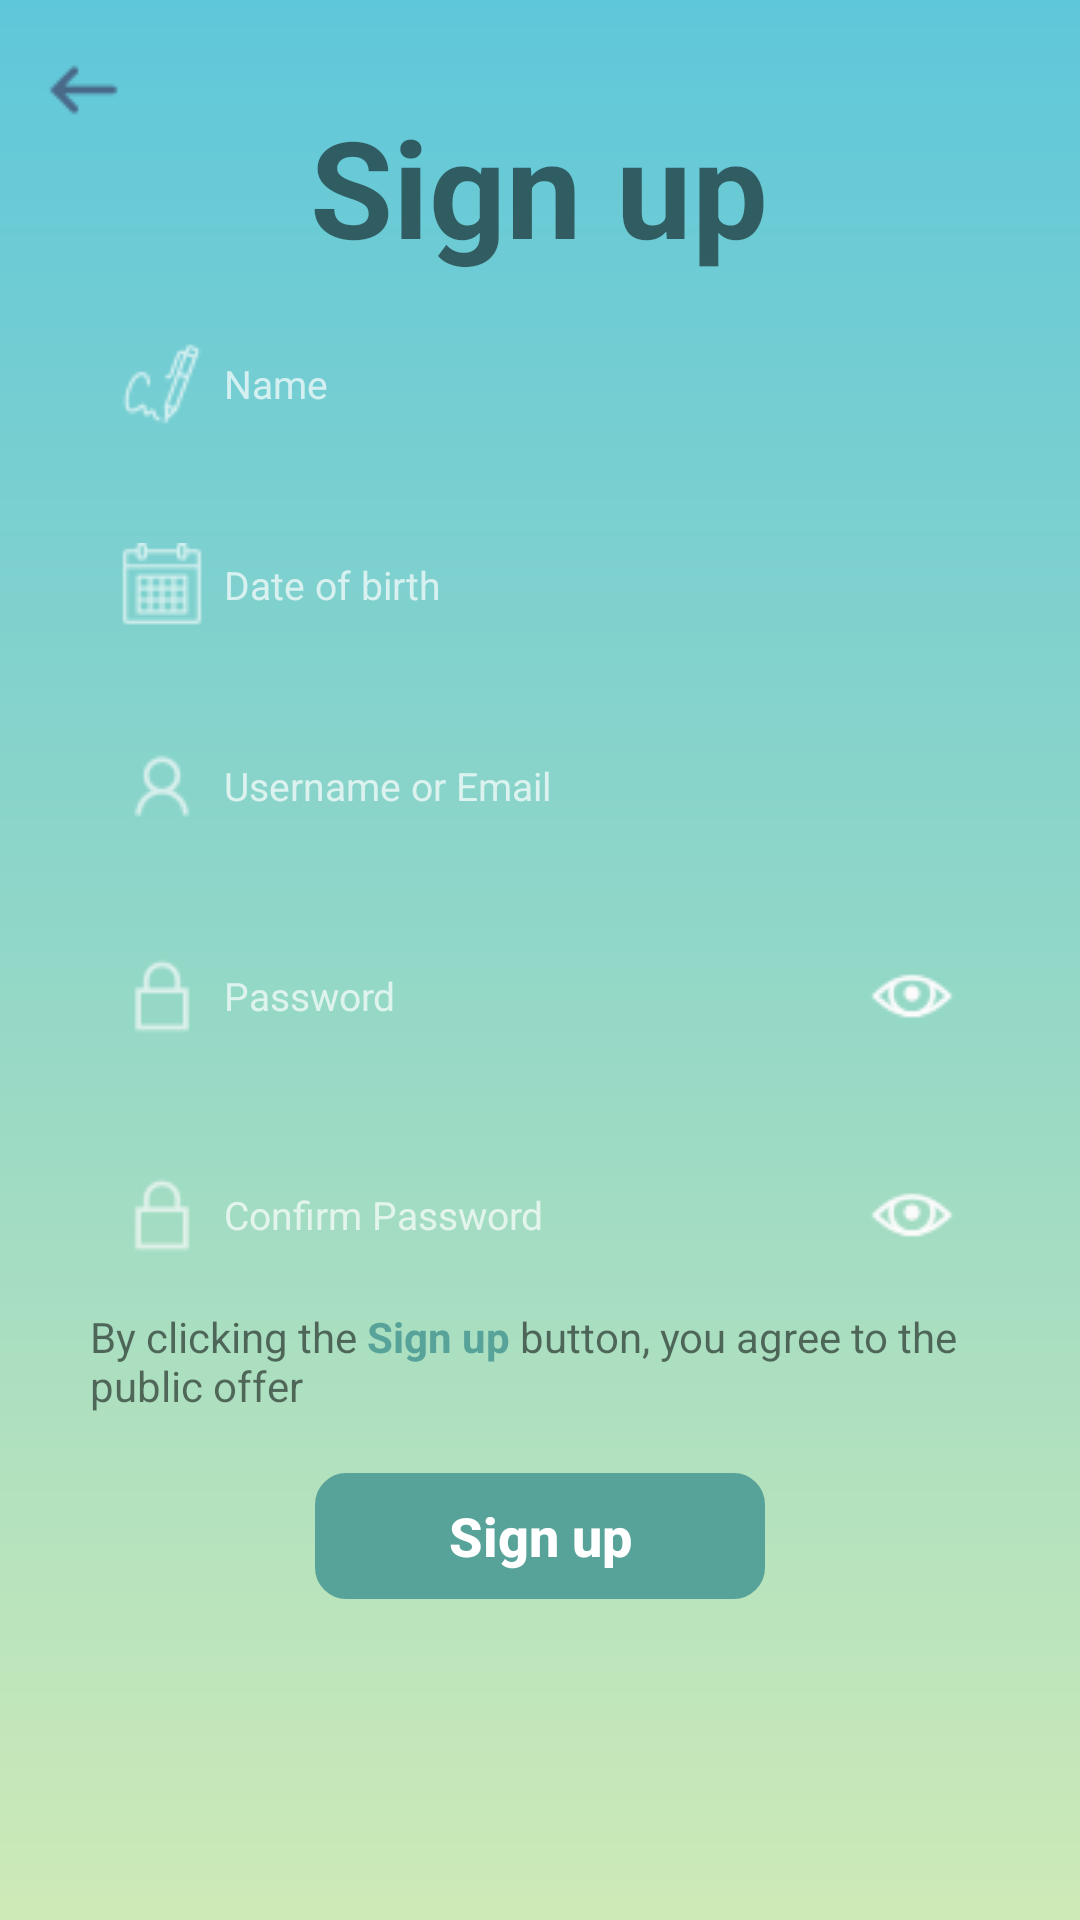

Point at icon controls on the screen. Image size 1080×1920, points as (x=x, y=y).
eye: (x=912, y=996), (x=912, y=1215)
left: (x=83, y=90)
